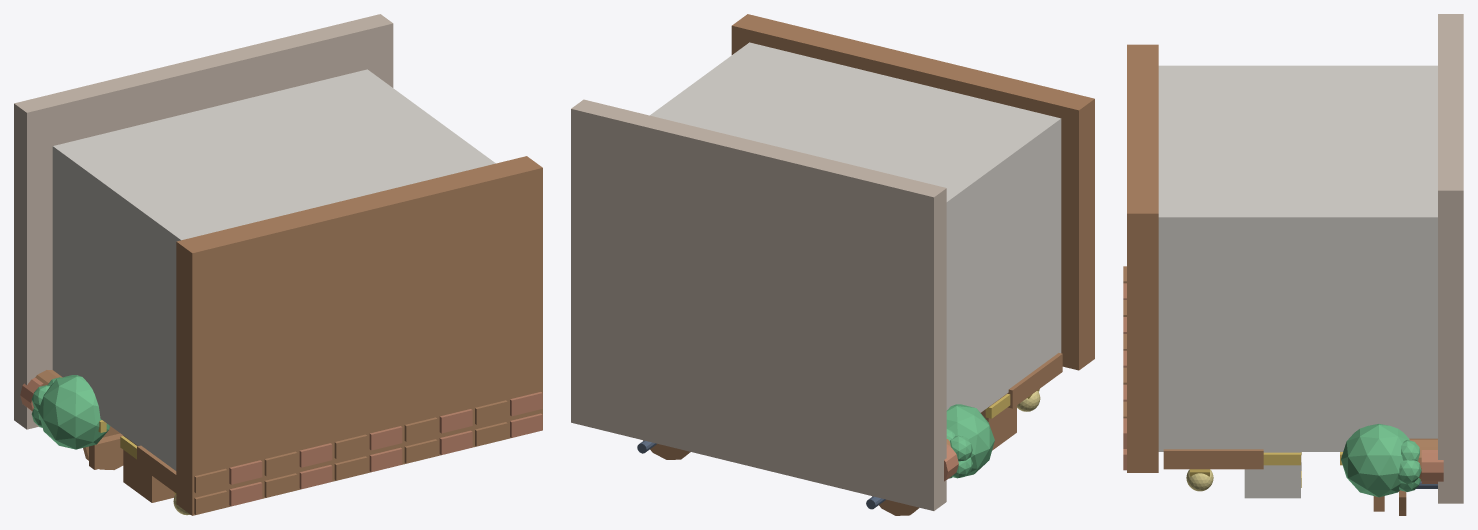
File: cafe.glb
3 renders of one model, left to right at view 1: azimuth 30°, elevation 25°; view 2: azimuth 150°, elevation 25°; view 3: azimuth 270°, elevation 25°, orthographic.
Visible parts, largest first — view 1: roof_2, walls_1, plinth_0, plant_20, awning_5, detail_table_detail_59, signboard_3, detail_roof_tile_36, detail_roof_tile_47, detail_roof_tile_35, detail_roof_tile_38, detail_roof_tile_40 (+15 smaller); view 2: plinth_0, walls_1, roof_2, plant_20, signboard_3, awning_5; view 3: walls_1, roof_2, plinth_0, plant_22, signboard_3, awning_12, detail_flower_pot_27, detail_window_trim_5, detail_foliage_28, detail_sconce_glow_9.
Part boxes in pixels (<box>): roof_2: <box>176,156,542,515</box>; walls_1: <box>52,69,495,470</box>; plinth_0: <box>14,14,393,429</box>; plant_20: <box>38,375,110,449</box>; awning_5: <box>123,435,174,502</box>; detail_table_detail_59: <box>89,433,123,469</box>; signboard_3: <box>137,445,176,492</box>; detail_roof_tile_36: <box>264,473,297,497</box>; detail_roof_tile_47: <box>299,443,332,467</box>; detail_roof_tile_35: <box>229,482,262,506</box>; detail_roof_tile_38: <box>334,456,367,480</box>; detail_roof_tile_40: <box>404,439,437,463</box>; plinth_0: <box>571,99,946,510</box>; walls_1: <box>650,42,1061,412</box>; roof_2: <box>731,14,1094,370</box>; plant_20: <box>946,404,994,478</box>; signboard_3: <box>1007,353,1062,408</box>; awning_5: <box>981,393,1016,450</box>; walls_1: <box>1158,65,1437,451</box>; roof_2: <box>1127,44,1158,472</box>; plinth_0: <box>1438,14,1463,503</box>; plant_22: <box>1341,424,1409,497</box>; signboard_3: <box>1163,449,1263,469</box>; awning_12: <box>1244,452,1300,498</box>; detail_flower_pot_27: <box>1421,450,1443,483</box>; detail_window_trim_5: <box>1263,452,1300,465</box>; detail_foliage_28: <box>1398,460,1421,484</box>; detail_sconce_glow_9: <box>1186,469,1213,491</box>.
Size of the model in its own units: 4.94 by 4.31 by 3.74.
